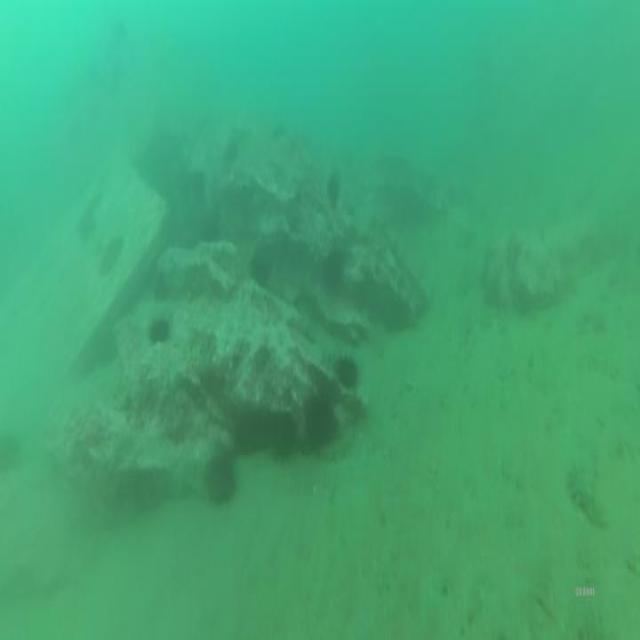echinus: (201, 441, 240, 513), (299, 386, 342, 450), (330, 349, 362, 397), (318, 245, 347, 291), (140, 313, 174, 346)
holothurian: (566, 449, 614, 534)
